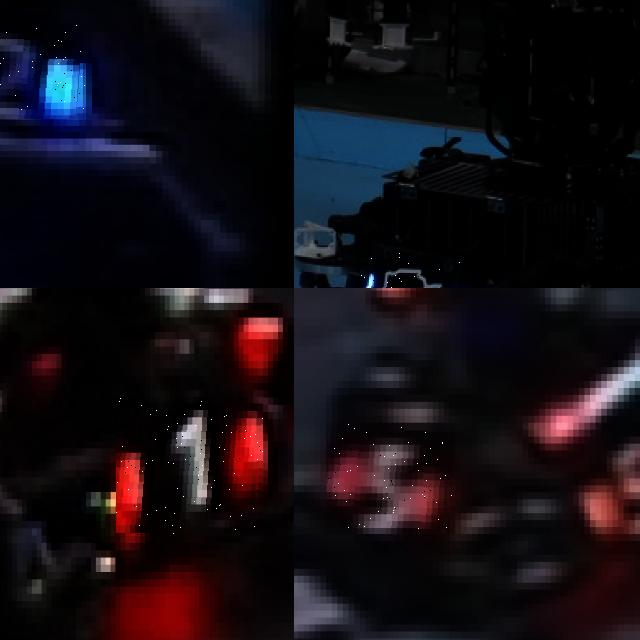B2: (0, 25, 85, 119)
Bs: (358, 252, 468, 288)
R1: (116, 398, 263, 536)
R5: (326, 423, 455, 534), (573, 443, 640, 541)
